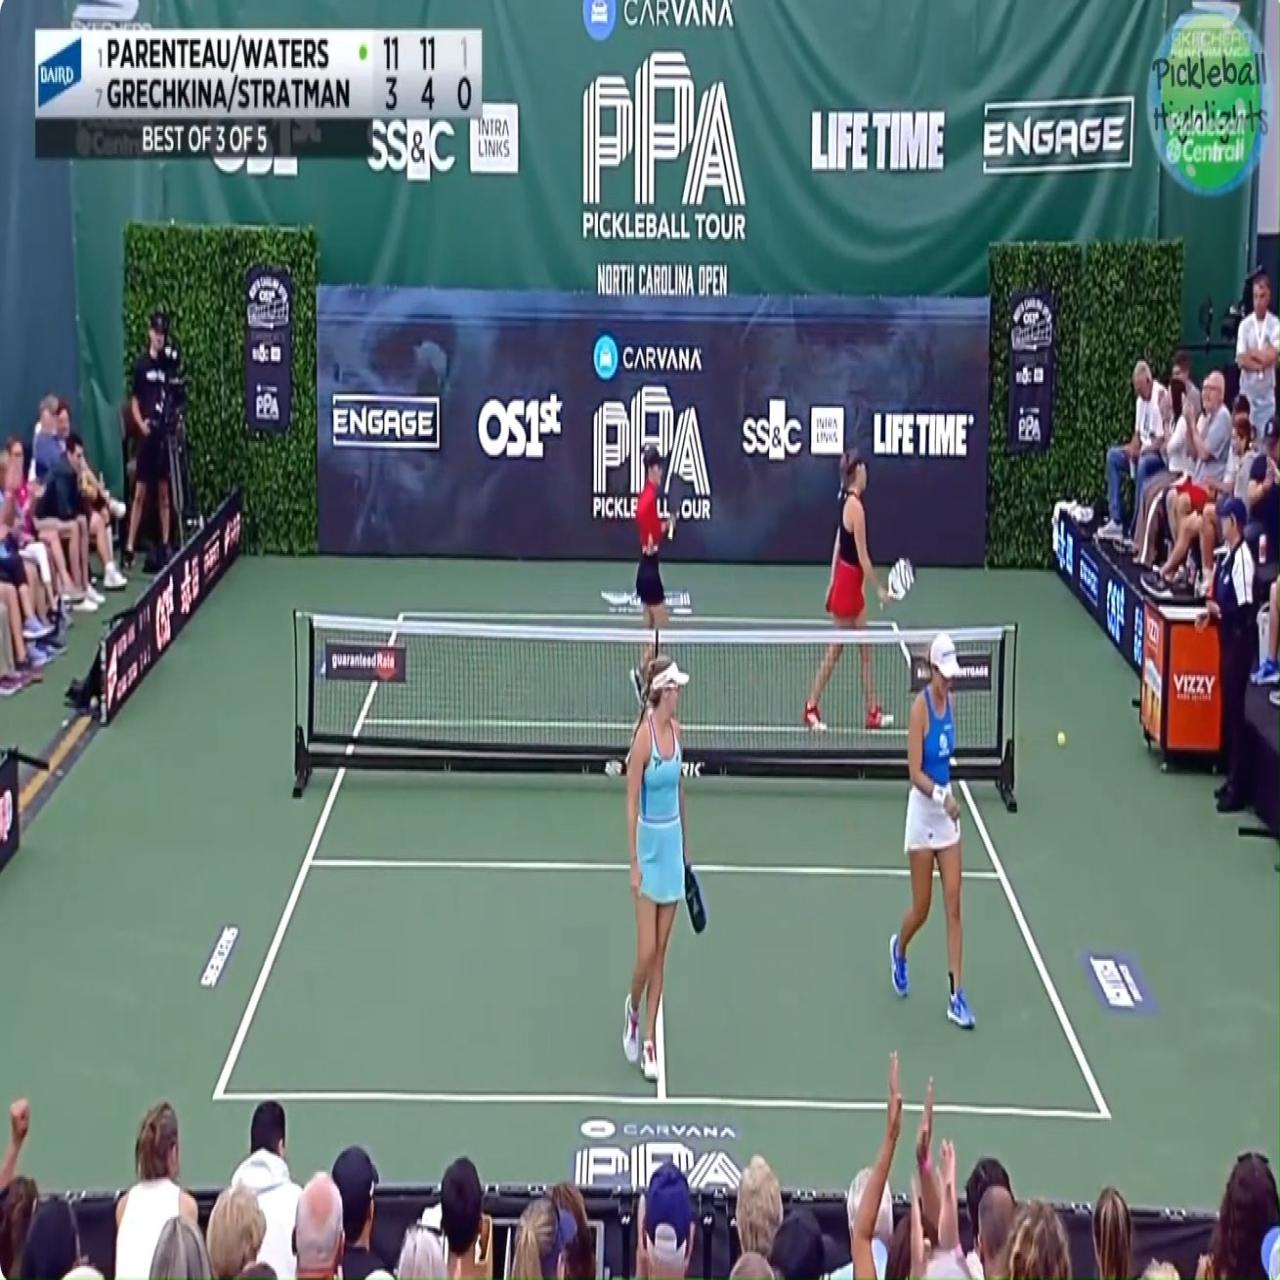pickleball: (1056, 729, 1065, 747)
